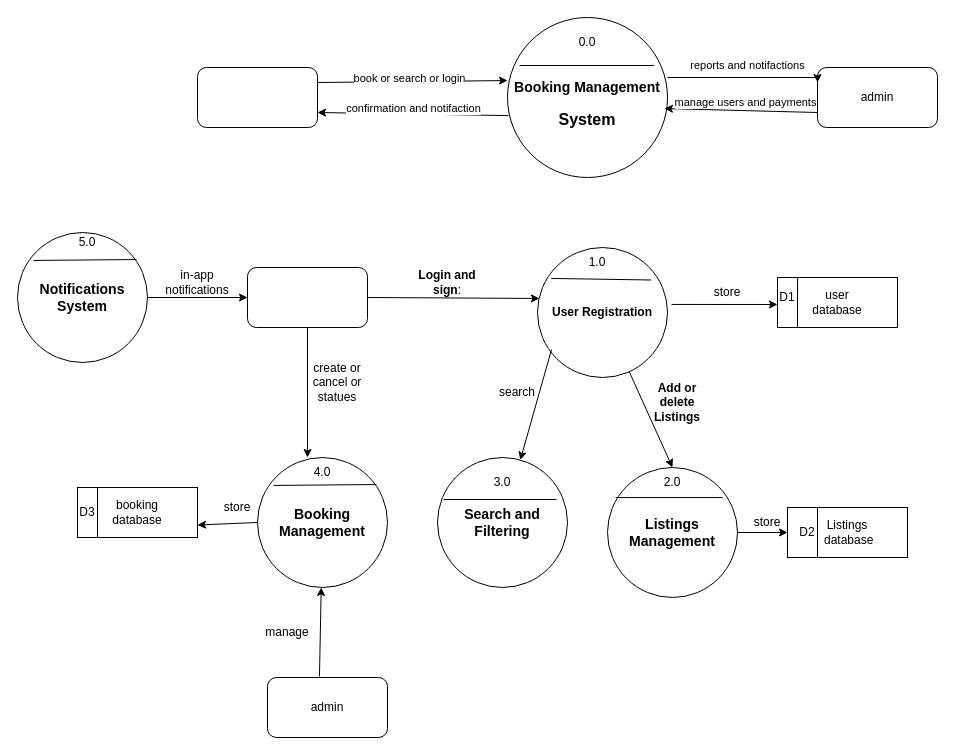
The diagram is 955 pixels wide and 755 high, and some of its shapes have lost their labels. The shapes that lost their labels are listed below. From the top down, each one's centre as x and y in pixels, then its label:
At [257,97]: "guests or hosts".
At [307,297]: "users".
